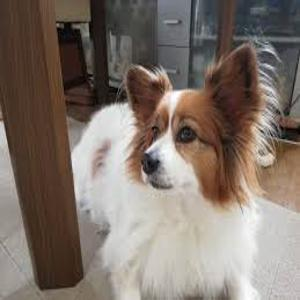yell: (70, 43, 266, 300)
